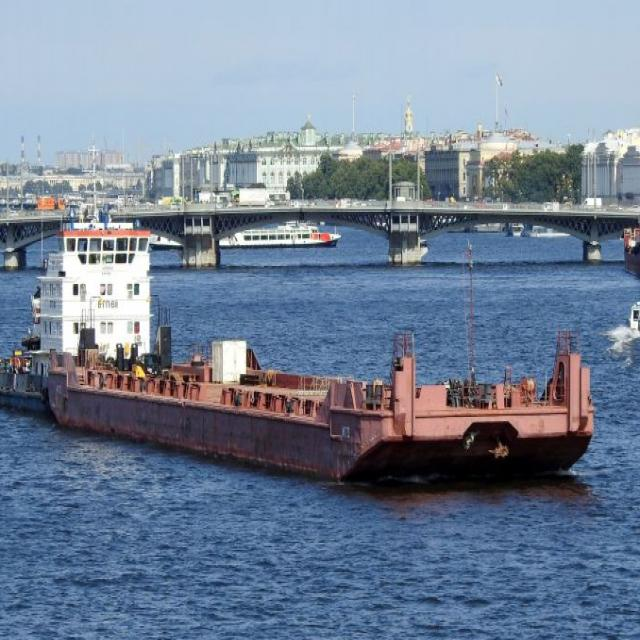tugboat: (1, 208, 180, 426)
